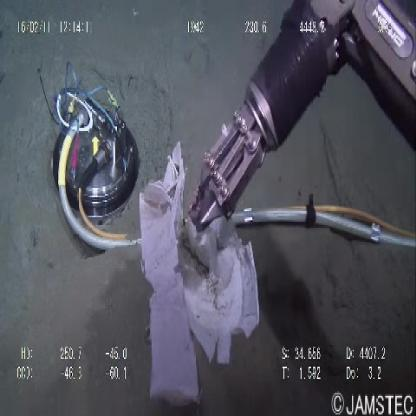Rov: (186, 2, 414, 237), (36, 60, 140, 260)
Rác: (138, 134, 265, 408)
